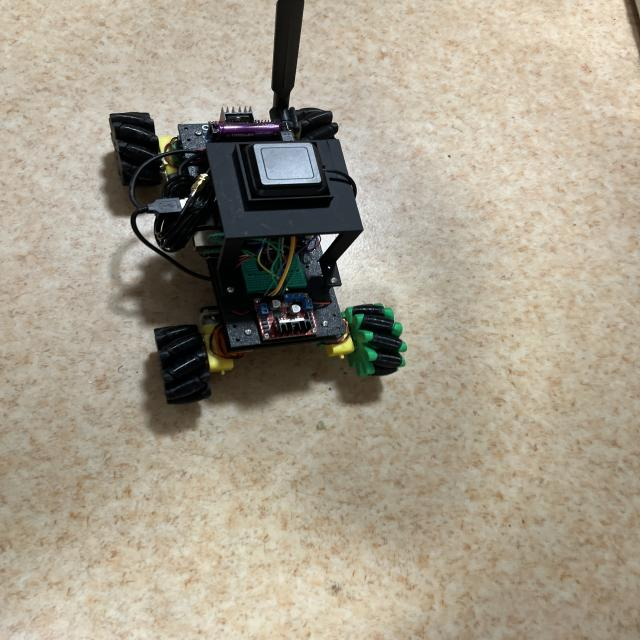robot: (109, 0, 407, 403)
